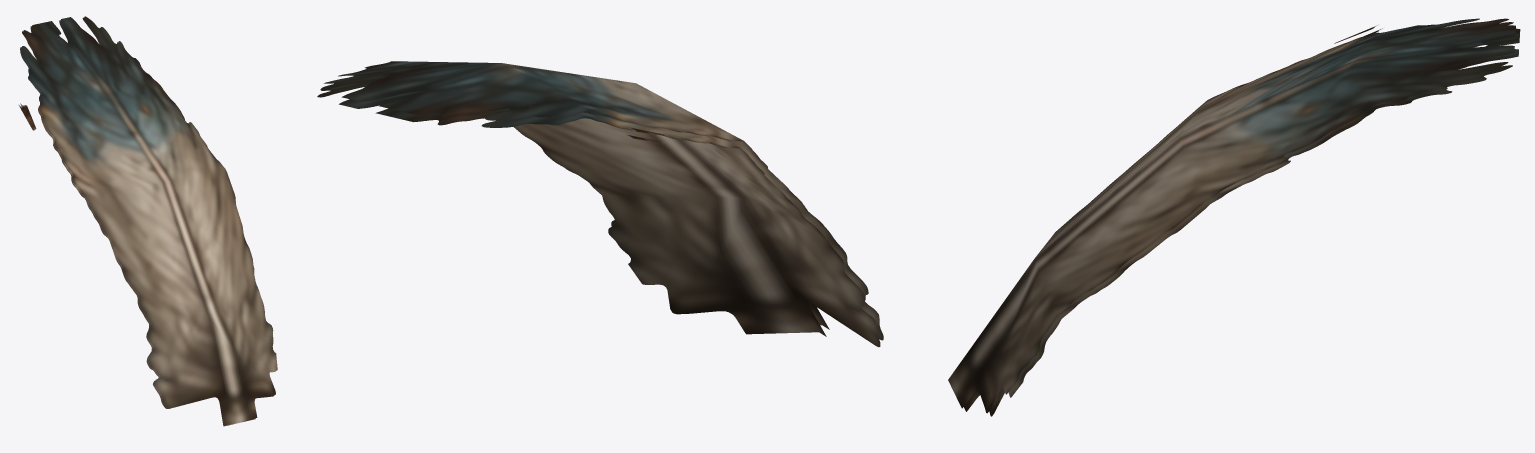
Rendered from viet_feathers_basic_02.dae.
3 renders of one model, left to right at view 1: azimuth 30°, elevation 25°; view 2: azimuth 150°, elevation 25°; view 3: azimuth 270°, elevation 25°, orthographic. The views are drawn at different scales.
Visible parts, largest first — view 1: Plane_001; view 2: Plane_001; view 3: Plane_001.
Boxes of the visible parts, <box> form: Plane_001: <box>18,16,277,426</box>; Plane_001: <box>317,61,883,347</box>; Plane_001: <box>948,18,1520,416</box>.
Size of the model in its own units: 0.28 by 0.6108 by 0.4393.
